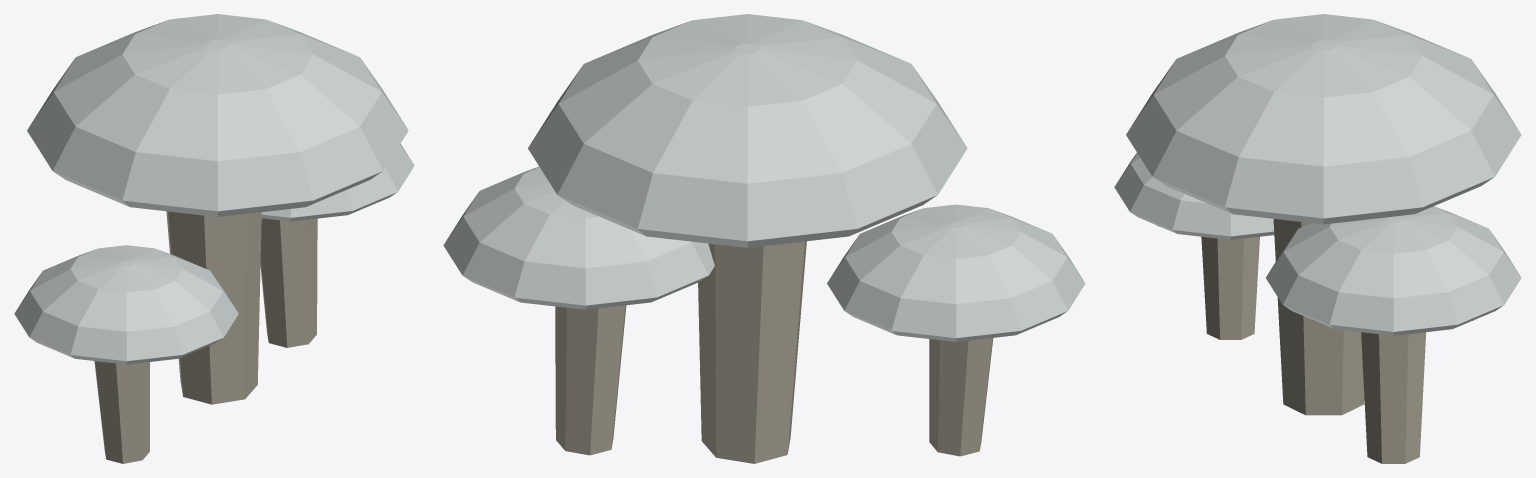
Rendered from snow_mushroom.glb.
The picture shows the model from 3 angles, left to right: view 1: azimuth 30°, elevation 25°; view 2: azimuth 150°, elevation 25°; view 3: azimuth 270°, elevation 25°; orthographic projection. The views are drawn at different scales.
Visible parts, largest first — view 1: item; view 2: item; view 3: item.
Part boxes in pixels (<box>): item: <box>14,14,414,463</box>; item: <box>443,14,1085,463</box>; item: <box>1114,14,1521,463</box>.
Size of the model in its own units: 0.46 by 0.3383 by 0.35.
